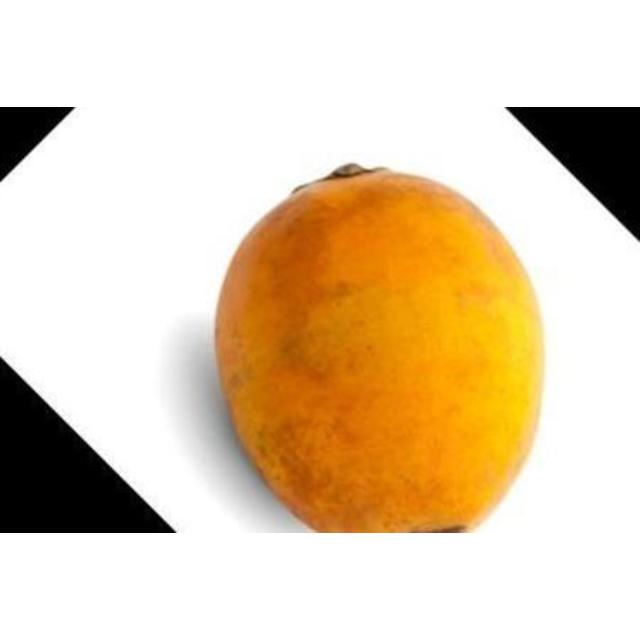good: (212, 165, 549, 532)
